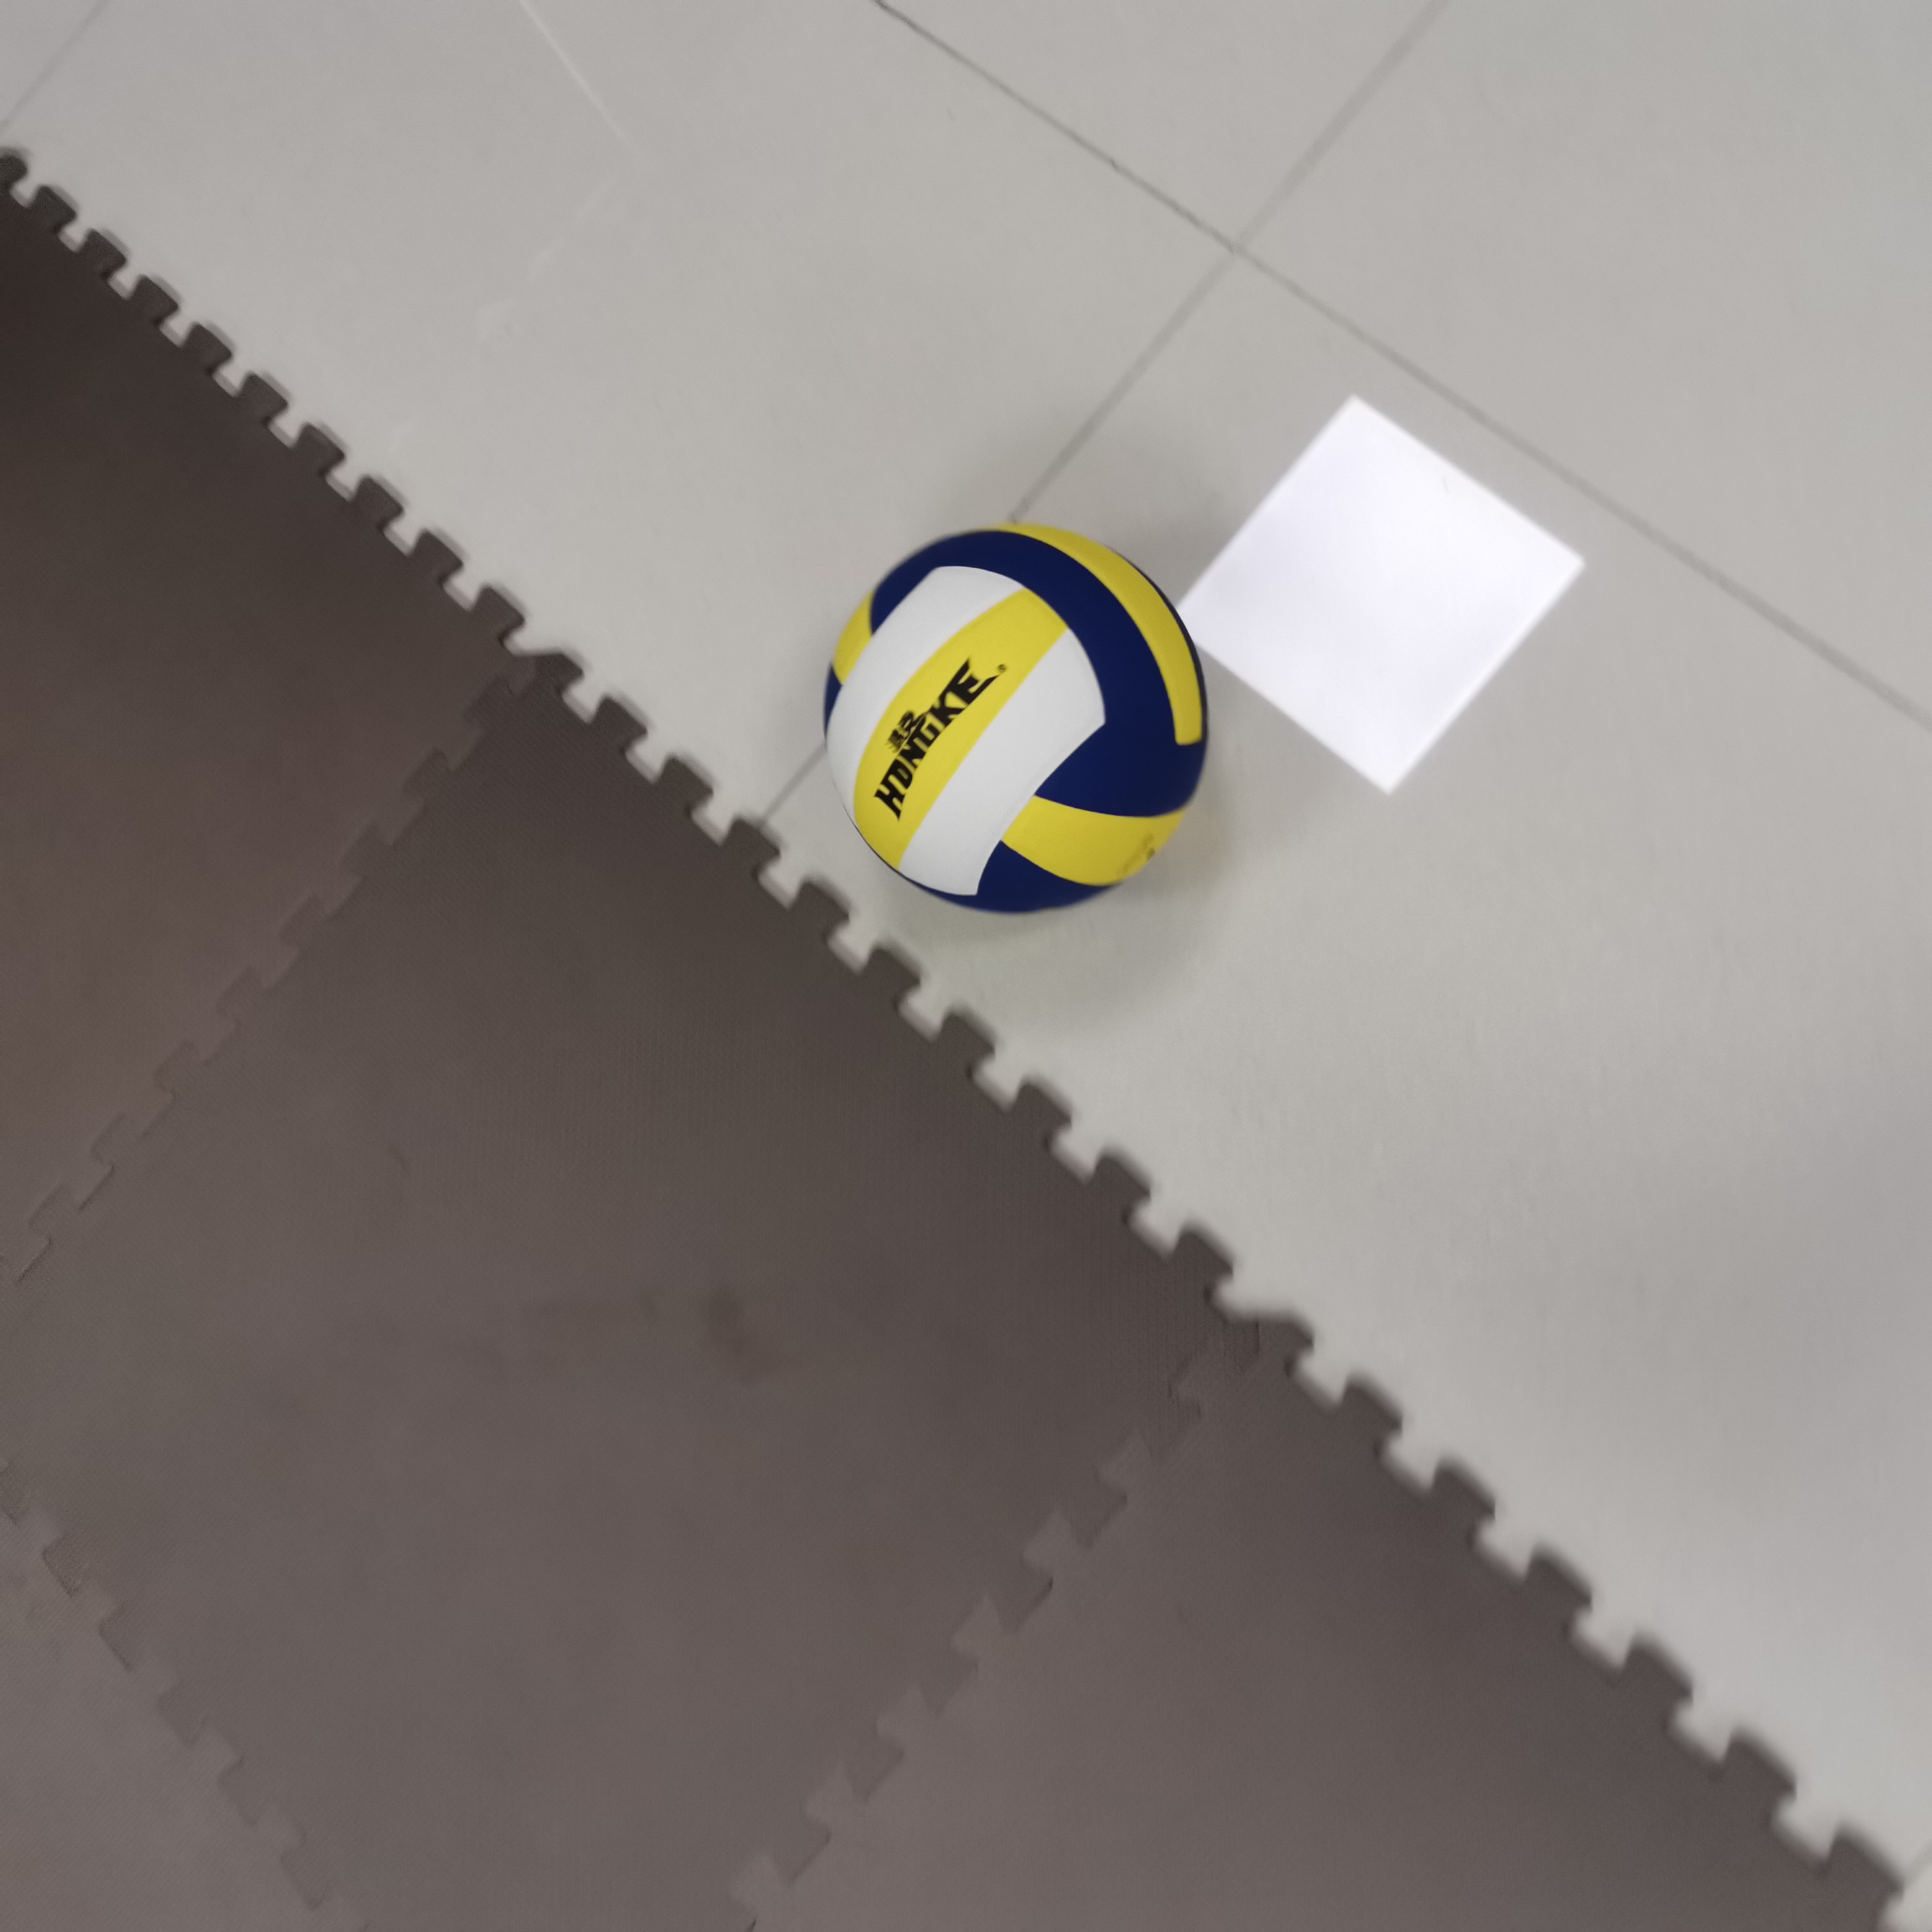volleyball: (830, 527, 1203, 922)
